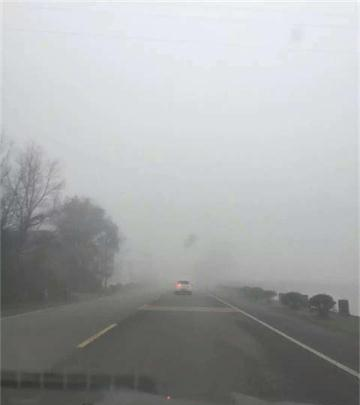car: (174, 278, 192, 295)
